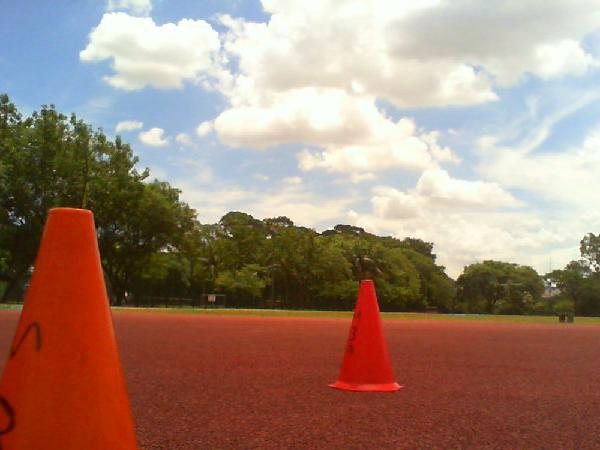0 cone: (0, 208, 143, 450), (328, 279, 403, 391)
